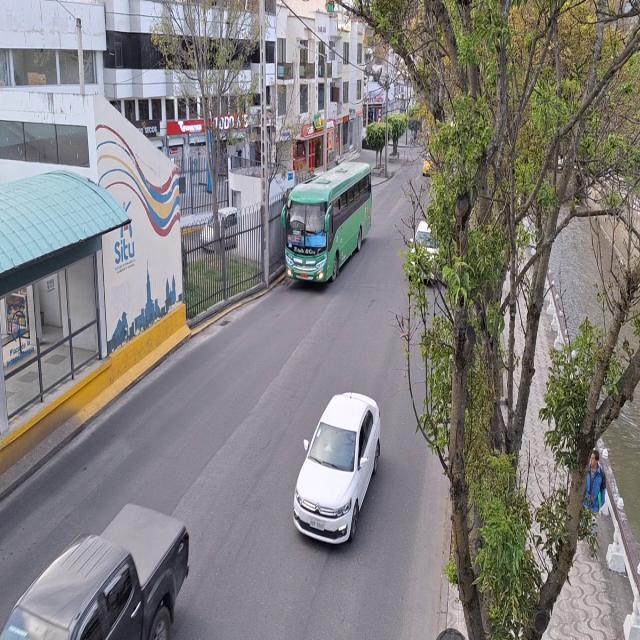BUS: (286, 168, 374, 287)
CMT: (1, 497, 190, 638)
SED: (296, 394, 378, 553)
